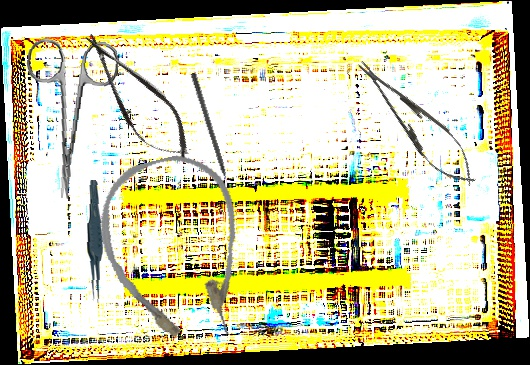Cannula: (86, 144, 264, 359)
Iris Scissors: (15, 35, 121, 204)
Micro Scissor: (69, 20, 203, 174)
Needle Holder: (345, 48, 488, 197)
Pusher: (189, 72, 233, 195)
Tissue Forceps: (82, 180, 107, 304)
